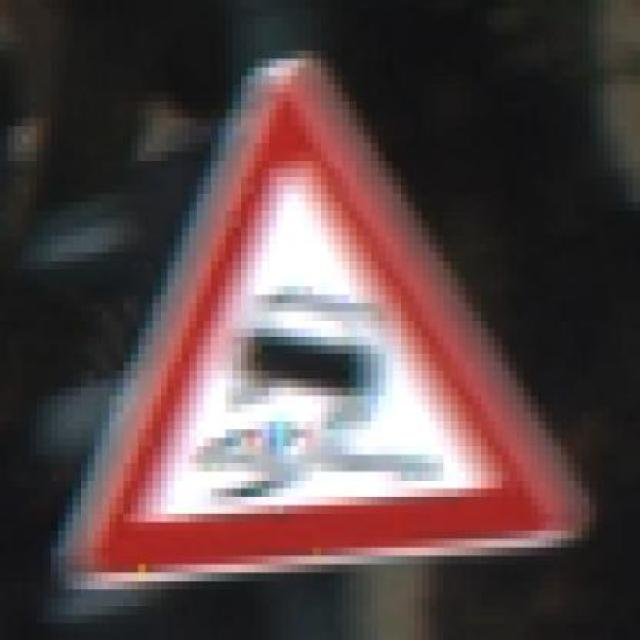Slippery Road Ahead: (65, 58, 604, 590)
